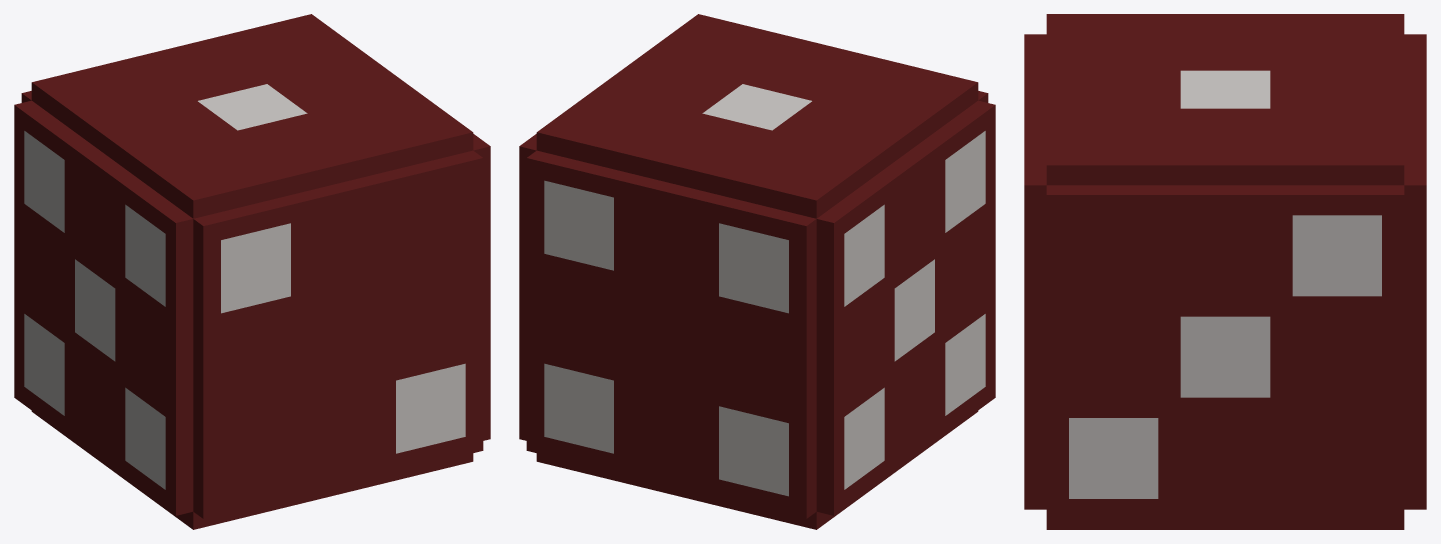
Rendered from dice-v2-red-white.gltf.
The picture shows the model from 3 angles, left to right: view 1: azimuth 30°, elevation 25°; view 2: azimuth 150°, elevation 25°; view 3: azimuth 270°, elevation 25°; orthographic projection. The views are drawn at different scales.
Visible parts, largest first — view 1: Untitled; view 2: Untitled; view 3: Untitled.
Boxes of the visible parts, x1,y1,x2,y2 form: Untitled: (14, 14, 490, 529); Untitled: (519, 14, 995, 529); Untitled: (1024, 14, 1426, 529).
Size of the model in its own units: 1.8 by 1.8 by 1.8.
Materials: 1 (1 with a texture image).
